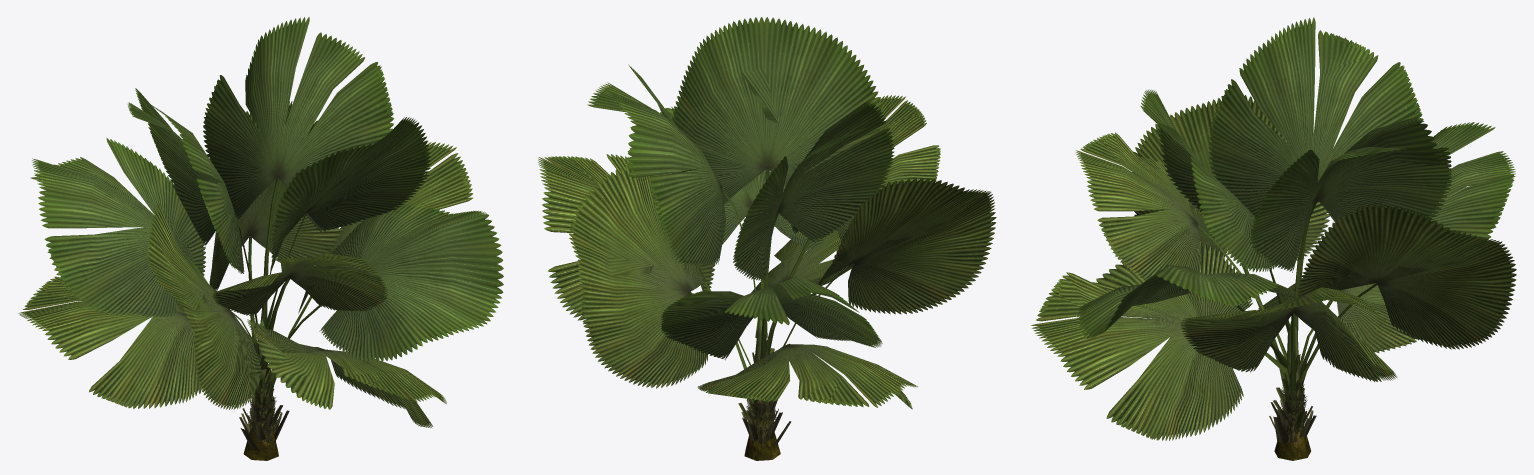
File: MK4_Licuala.DAE
3 views of the same model, side by side, from view 1: azimuth 30°, elevation 25°; view 2: azimuth 150°, elevation 25°; view 3: azimuth 270°, elevation 25° (orthographic). The views are drawn at different scales.
Visible parts, largest first — view 1: Licuala300, Licuala100; view 2: Licuala300, Licuala100; view 3: Licuala300, Licuala100.
Part boxes in pixels (x1,y1,x2,y2): Licuala300: [18, 17, 503, 460]; Licuala100: [23, 62, 472, 435]; Licuala300: [538, 17, 996, 460]; Licuala100: [544, 66, 974, 452]; Licuala300: [1031, 17, 1516, 460]; Licuala100: [1036, 31, 1514, 460].
Bounding box in the file's own units: 28.77 × 30.24 × 25.99.
